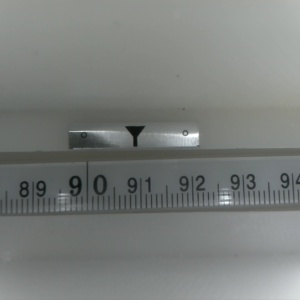0: (92, 174, 107, 195)
1: (144, 177, 151, 193)
2: (195, 175, 205, 191)
3: (245, 174, 255, 189)
4: (294, 172, 300, 188)
8: (19, 181, 29, 197)
9: (68, 176, 81, 195), (35, 180, 46, 197), (178, 175, 189, 192), (127, 177, 137, 193), (279, 173, 289, 189), (229, 175, 239, 190)
finger: (123, 126, 146, 148)
